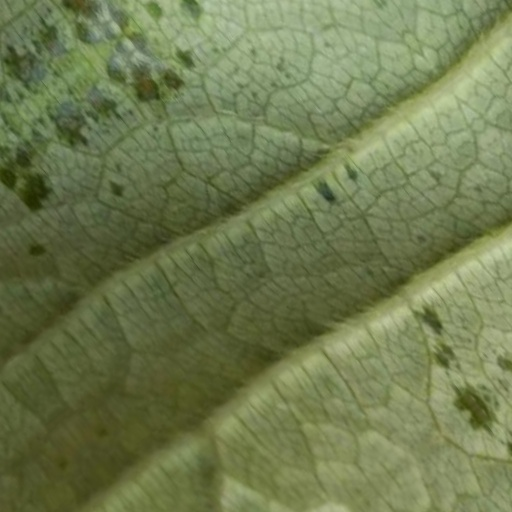Angular Leafspot: (31, 0, 459, 511)
